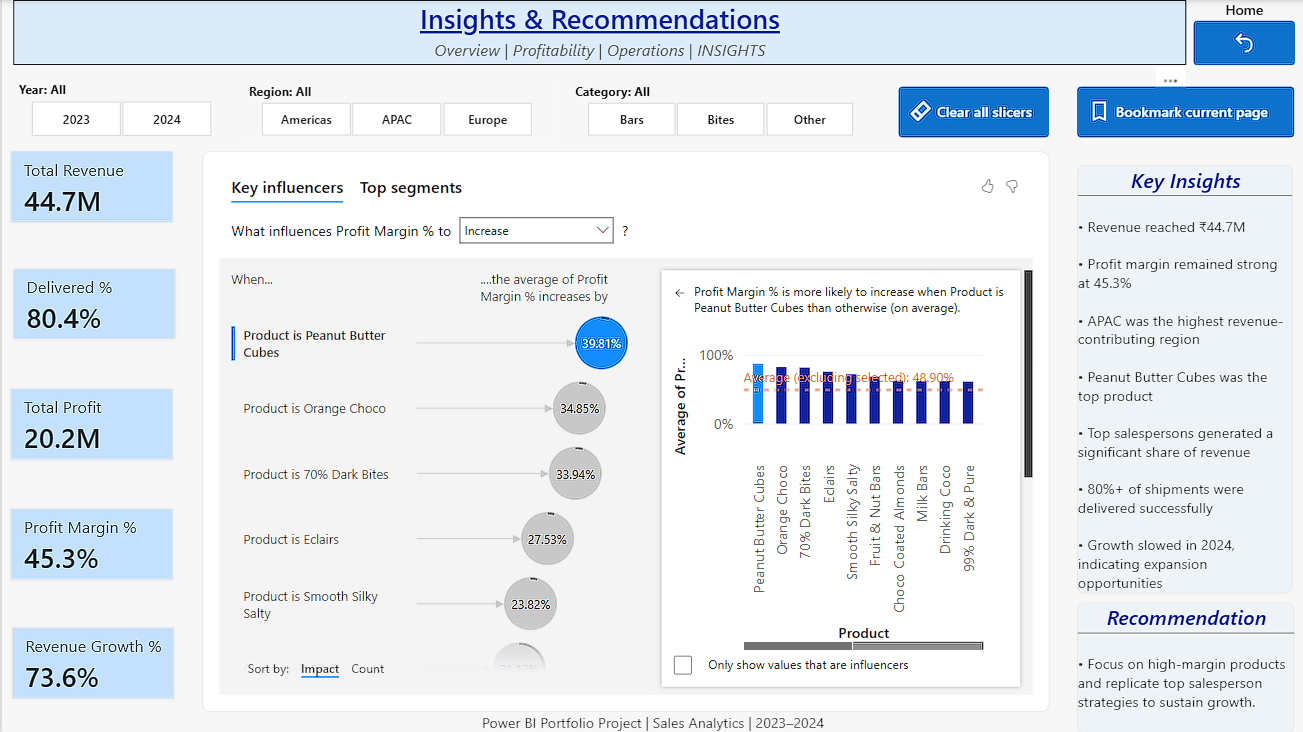

Layout of this report page (visuals, bound fields, positions):
{"tool":"powerbi","page":{"name":"Insights & Recommendations","canvas":[1280,720],"ordinal":4},"visuals":[{"type":"textbox","title":"Insights & Recommendations","box":[11.1,0,1151.9,64.2],"z":0},{"type":"slicer","fields":{"Values":["calendar.cal_date.Variation.Date Hierarchy.Year"]},"box":[8.6,79.8,216,55.2],"z":1000},{"type":"slicer","fields":{"Values":["locations.Region"]},"box":[234.6,81.5,304.9,54.3],"z":2000},{"type":"slicer","fields":{"Values":["products.Category"]},"box":[554.3,81.5,300,54.3],"z":3000},{"type":"actionButton","box":[880.2,85.2,148.1,50.6],"z":4000},{"type":"actionButton","box":[1055.6,85.2,213.6,50.6],"z":5000},{"type":"cardVisual","fields":{"Data":["calendar.Total revenue"]},"box":[8.6,148.5,159.5,69.9],"z":6000},{"type":"cardVisual","fields":{"Data":["calendar.Total Profit"]},"box":[8.6,381.6,159.5,69.9],"z":7000},{"type":"cardVisual","fields":{"Data":["calendar.Profit Margin %"]},"box":[8.6,499.4,159.5,69.9],"z":8000},{"type":"cardVisual","fields":{"Data":["calendar.YoY Revenue Growth %"]},"box":[9.8,616,159.5,69.9],"z":9000},{"type":"cardVisual","fields":{"Data":["Measures table.Delivered %"]},"box":[11.1,264.2,159.3,69.1],"z":10000},{"type":"keyDriversVisual","fields":{"ExplainBy":["locations.Region","products.Category","shipments.Order_Status","products.Product"],"Target":["Measures table.Profit Margin %"]},"box":[196.3,148.1,832.1,550.6],"z":11000},{"type":"textbox","title":"Key Insights","box":[1055.6,161.7,212.3,421],"z":12000},{"type":"textbox","box":[471.2,699.4,338.7,20.9],"z":13000},{"type":"actionButton","title":"Home","box":[1169.1,0,100,64.2],"z":14000},{"type":"textbox","title":"Recommendation","box":[1055.6,591.4,213.6,128.4],"z":15000}]}

Visuals, with their boxes in screenshot pixels (x1, y1, x2, y2), scaled from the page's 1280x720 canvas onto the 1303x732 screenshot:
"Insights & Recommendations" textbox: l=11, t=0, r=1184, b=65
slicer - calendar.cal_date.Variation.Date Hierarchy.Year: l=9, t=81, r=229, b=137
slicer - locations.Region: l=239, t=83, r=549, b=138
slicer - products.Category: l=564, t=83, r=870, b=138
actionButton: l=896, t=87, r=1047, b=138
actionButton: l=1075, t=87, r=1292, b=138
cardVisual - calendar.Total revenue: l=9, t=151, r=171, b=222
cardVisual - calendar.Total Profit: l=9, t=388, r=171, b=459
cardVisual - calendar.Profit Margin %: l=9, t=508, r=171, b=579
cardVisual - calendar.YoY Revenue Growth %: l=10, t=626, r=172, b=697
cardVisual - Measures table.Delivered %: l=11, t=269, r=173, b=339
keyDriversVisual - locations.Region x products.Category: l=200, t=151, r=1047, b=710
"Key Insights" textbox: l=1075, t=164, r=1291, b=592
textbox: l=480, t=711, r=824, b=731
"Home" actionButton: l=1190, t=0, r=1292, b=65
"Recommendation" textbox: l=1075, t=601, r=1292, b=731
